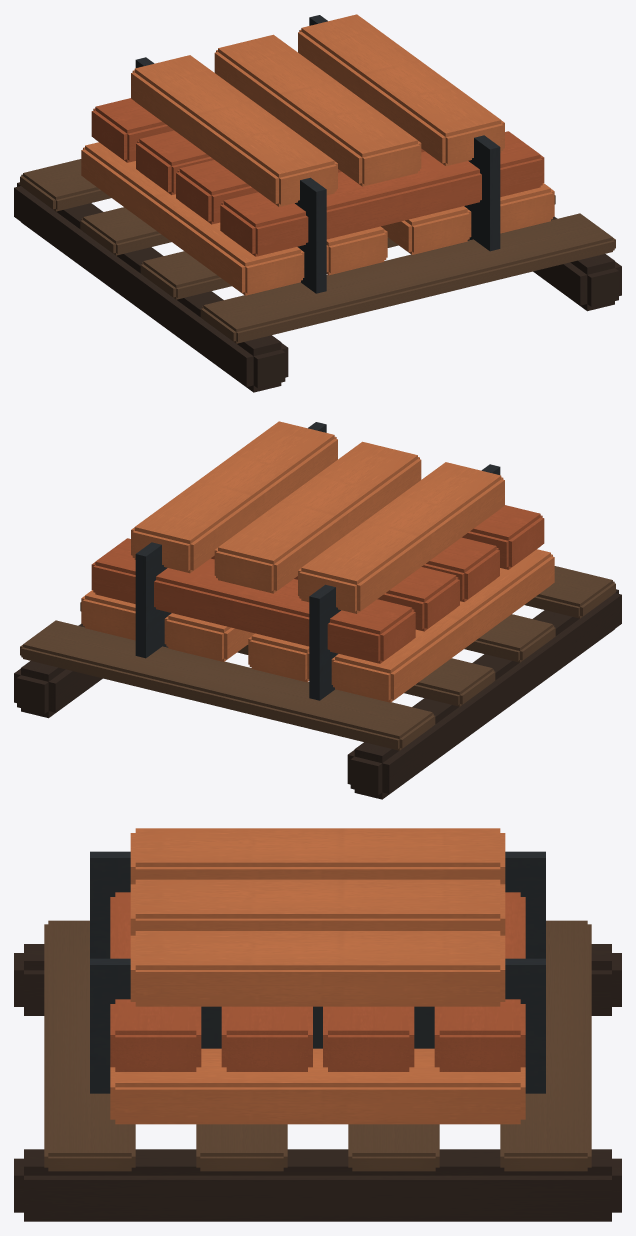
The model's file is ingot_stack_copper.glb.
3 renders of one model, top to bottom at view 1: azimuth 30°, elevation 25°; view 2: azimuth 150°, elevation 25°; view 3: azimuth 270°, elevation 25°, orthographic. The views are drawn at different scales.
Visible parts, largest first — view 1: ingot_stack_copper; view 2: ingot_stack_copper; view 3: ingot_stack_copper.
Part boxes in pixels (<box>): ingot_stack_copper: <box>14,14,621,392</box>; ingot_stack_copper: <box>14,421,621,799</box>; ingot_stack_copper: <box>14,828,621,1221</box>.
Bounding box in the file's own units: 1.1 × 0.465 × 1.2.
1 material, 1 textured.
